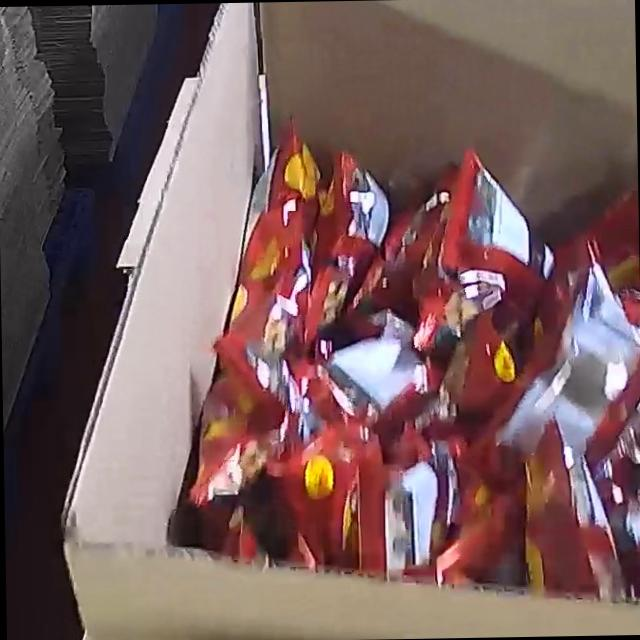masala: (170, 112, 640, 624)
